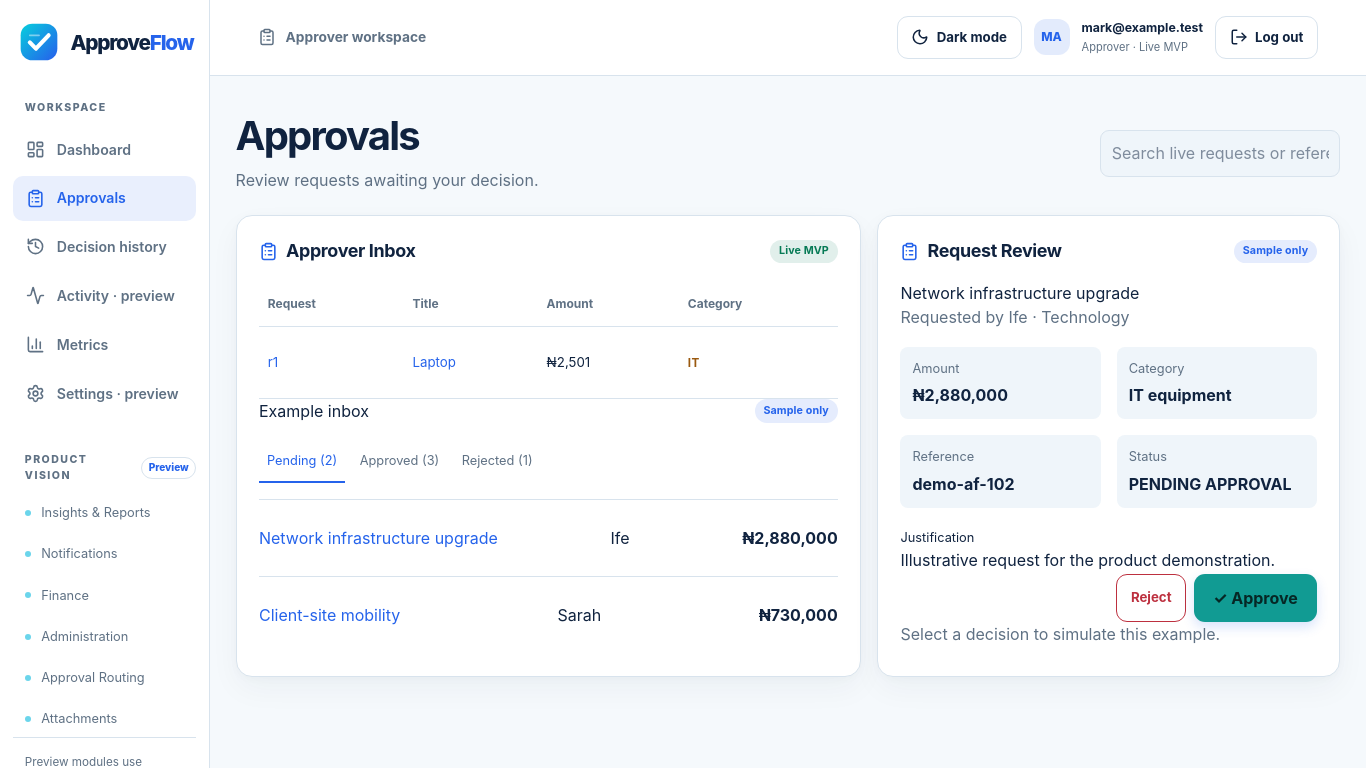
Test: G3 user journeys › keeps the live request selected when an inbox decision fails
Click the button "Laptop" at (434, 363), box [412,341,456,385]
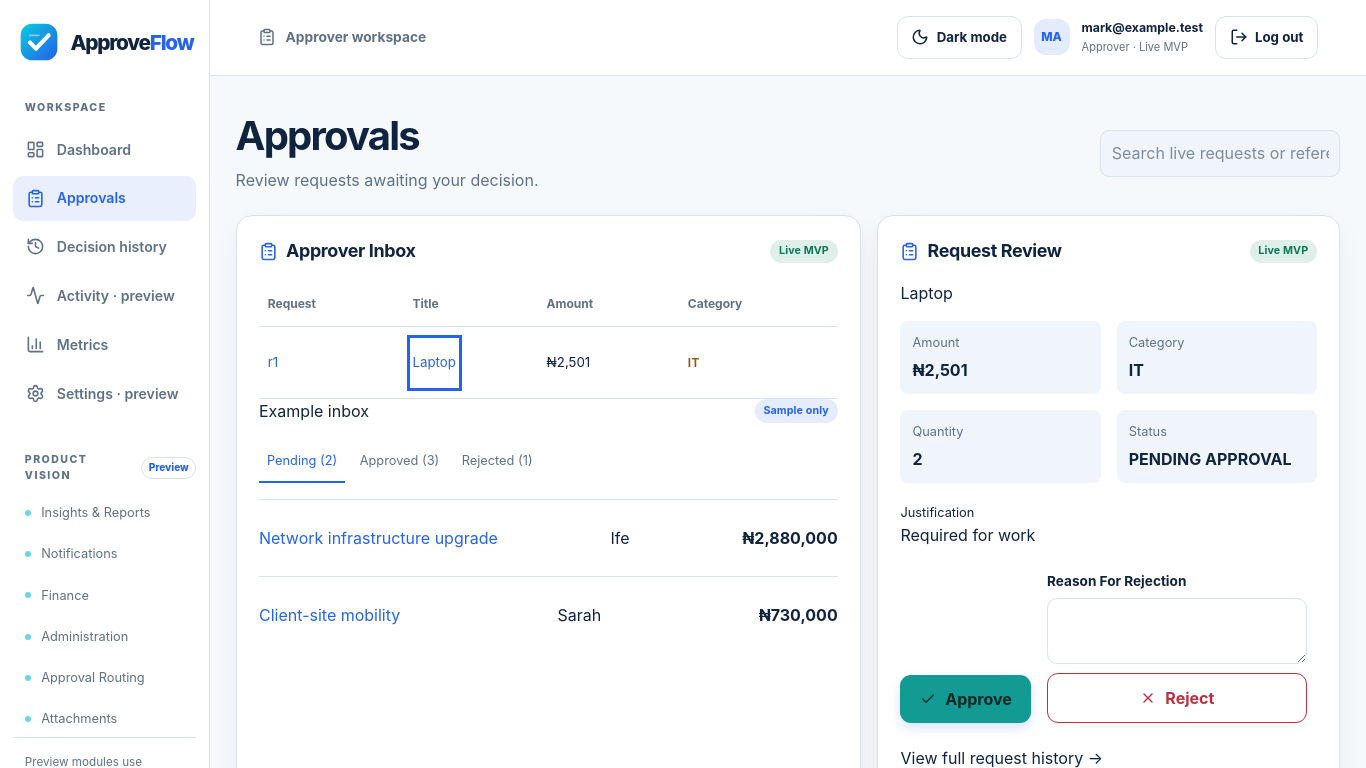
Click the button "Approve" at (966, 699), box [900,675,1031,723]
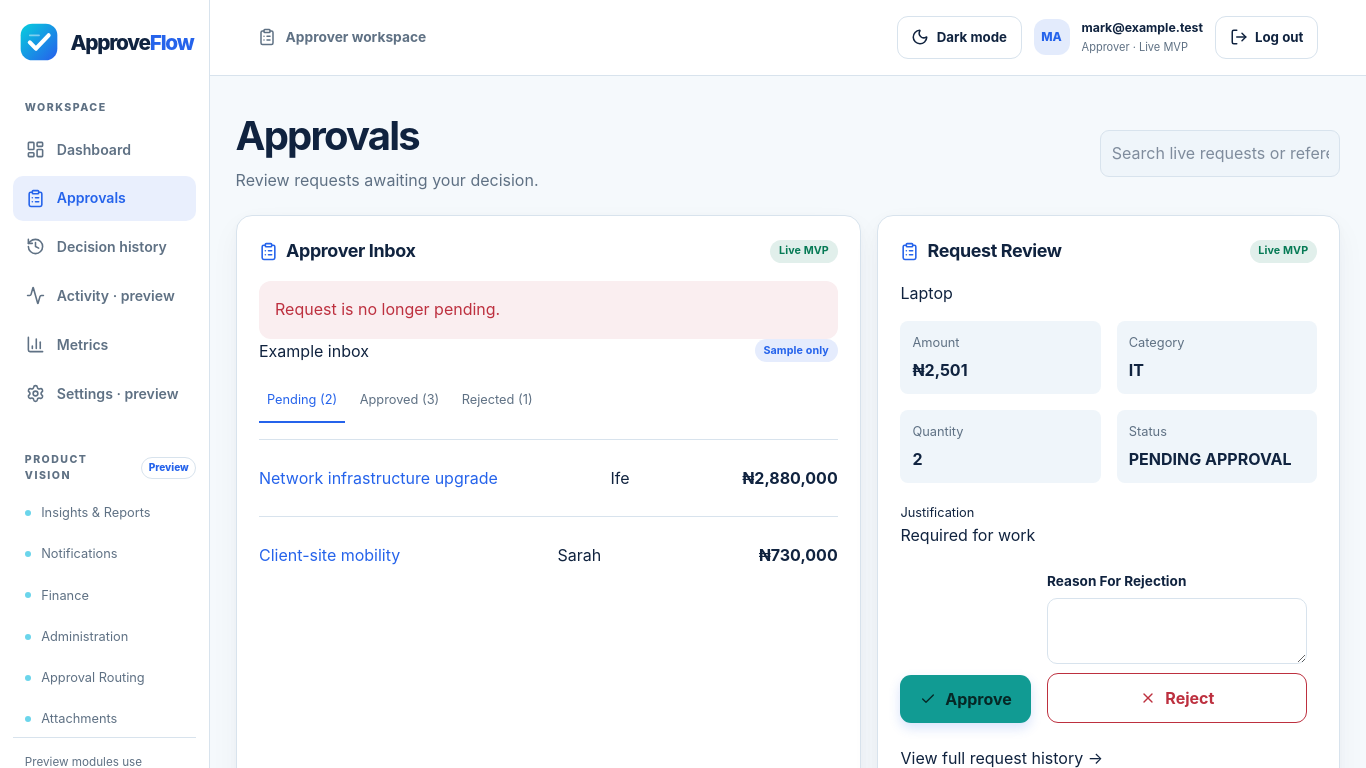
Result: the heading "Laptop" is shown at [900,283,953,303]
Result: the message reads "Request is no longer pending." at [275,299,500,319]
